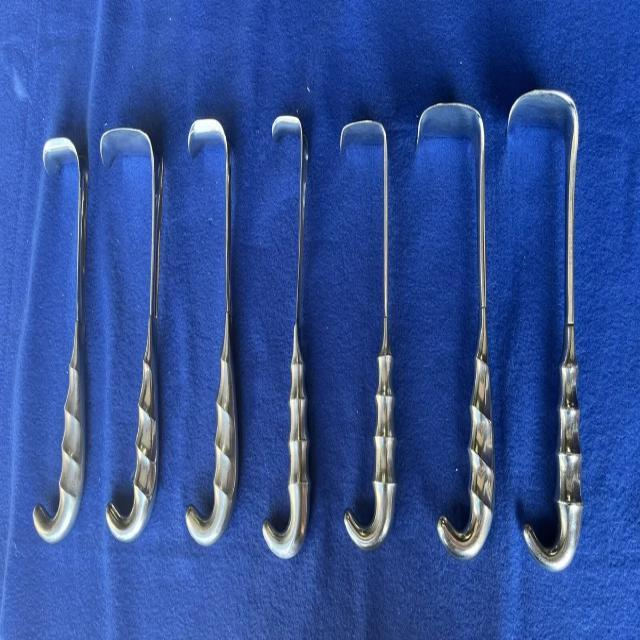Deaver Retractor: (505, 85, 594, 578), (414, 98, 498, 564), (332, 115, 404, 581), (95, 126, 170, 548), (180, 109, 244, 561), (26, 126, 90, 554), (262, 107, 316, 576)
